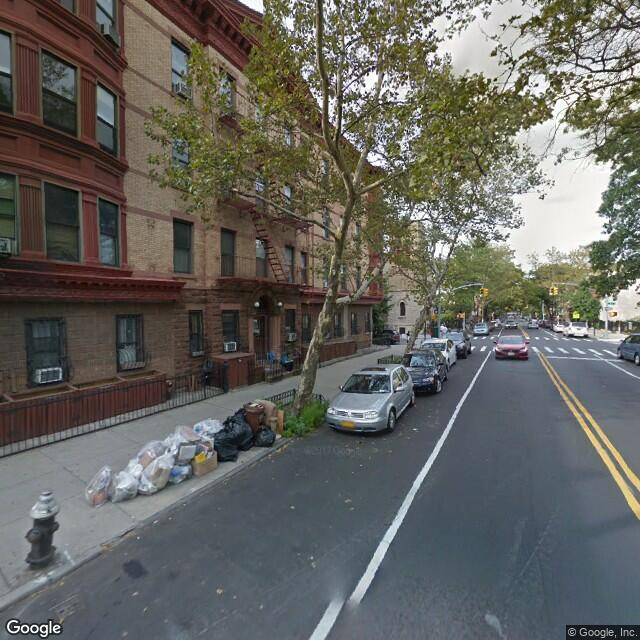litter: (213, 588, 225, 596), (307, 557, 317, 566), (257, 604, 268, 612), (274, 435, 284, 443), (411, 425, 421, 432), (150, 518, 161, 524), (340, 494, 353, 499), (130, 590, 139, 597), (135, 534, 140, 540), (288, 503, 294, 508), (350, 508, 354, 511)
